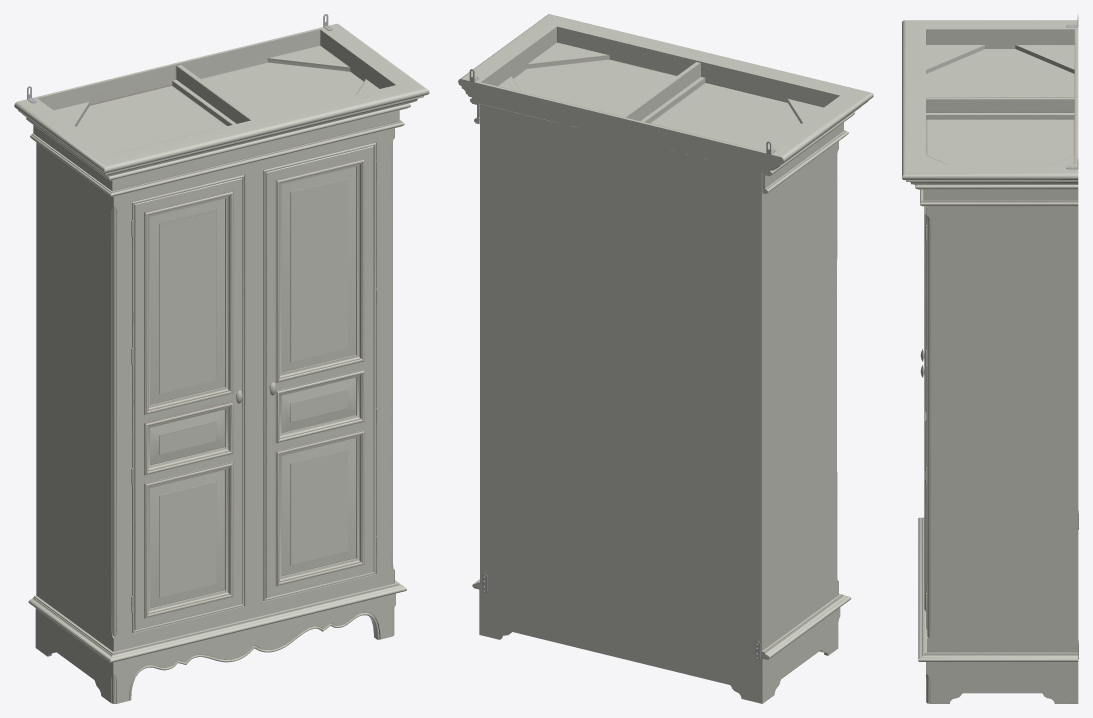
File: example130.gltf
3 renders of one model, left to right at view 1: azimuth 30°, elevation 25°; view 2: azimuth 150°, elevation 25°; view 3: azimuth 270°, elevation 25°, orthographic. The views are drawn at different scales.
Size of the model in its own units: 124 by 205 by 59.6.
Materials: 2 (1 with a texture image).
